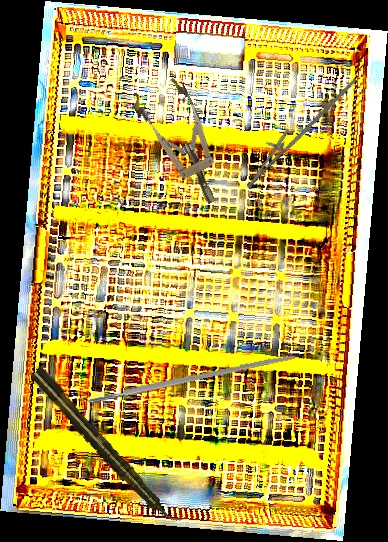Handpiece: (26, 362, 183, 533)
Needle Holder: (237, 60, 358, 200)
Scalpel Handle: (86, 352, 296, 405)
Speculum: (128, 72, 236, 215)
